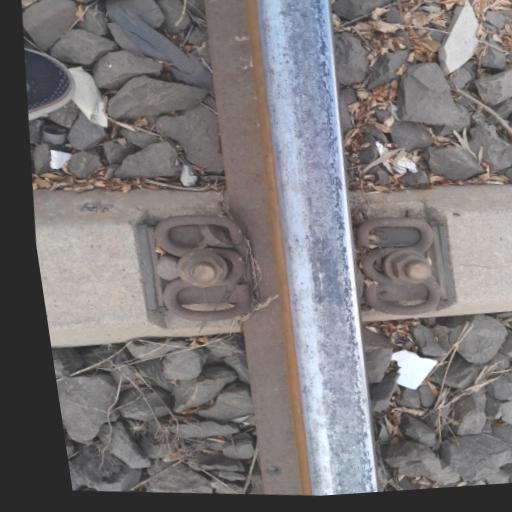bolt: (162, 232, 251, 313), (380, 230, 457, 308)
clip: (113, 193, 276, 341), (345, 186, 481, 335)
rail: (194, 0, 415, 401)
